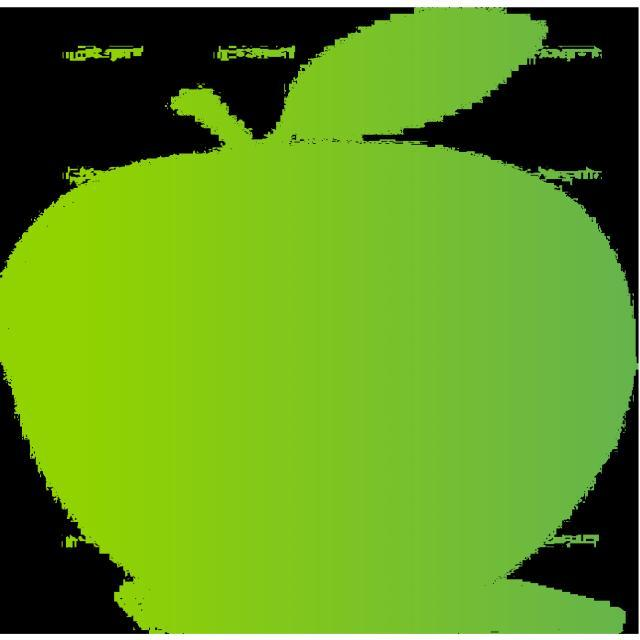Apple: (11, 9, 636, 619)
